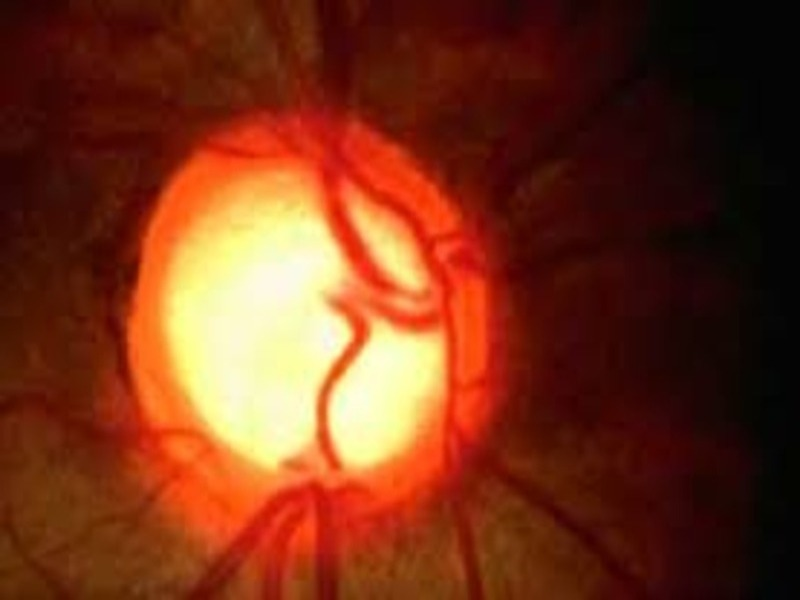Optic Cup: (168, 183, 442, 469)
Optic Disc: (125, 95, 526, 542)
